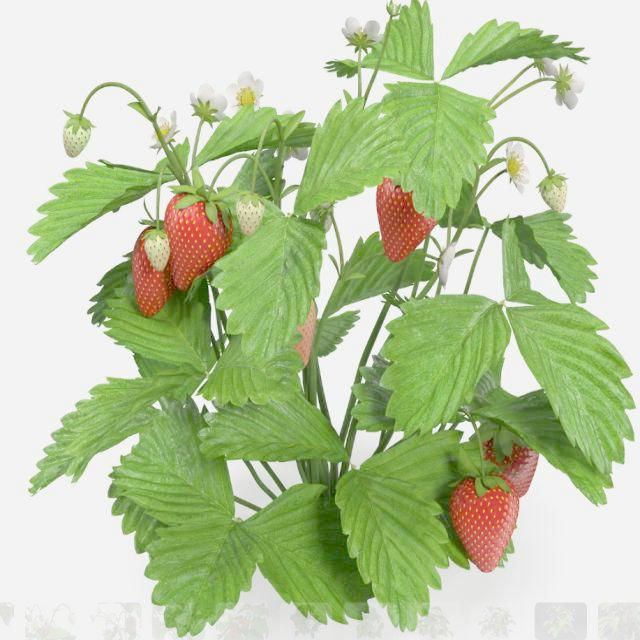ripe: (447, 477, 528, 577), (368, 163, 447, 264), (162, 184, 230, 296), (128, 225, 180, 322), (484, 430, 552, 501), (290, 279, 316, 376)
unripe: (232, 184, 272, 239), (538, 167, 574, 220), (58, 111, 90, 164), (141, 222, 172, 273)
